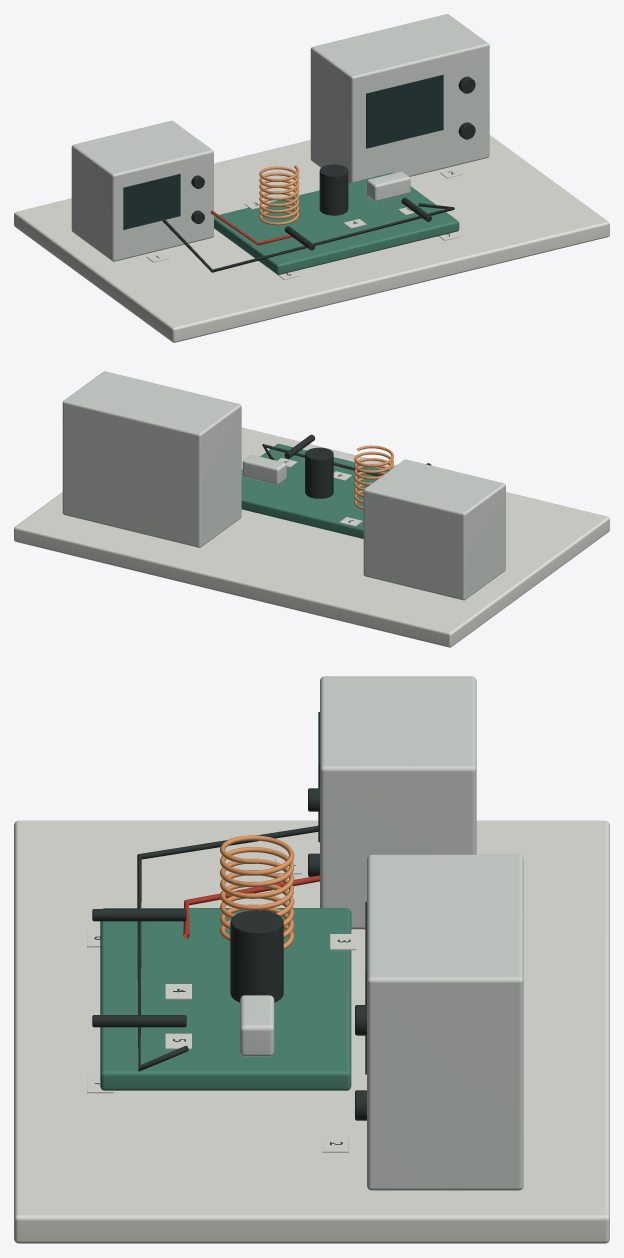
Rendered from passive-rlc.glb.
The picture shows the model from 3 angles, top to bottom: view 1: azimuth 30°, elevation 25°; view 2: azimuth 150°, elevation 25°; view 3: azimuth 270°, elevation 25°; orthographic projection. The views are drawn at different scales.
Visible parts, largest first — view 1: assumed 600 by 380 mm apparatus base, analyzer, source, passive circuit carrier, analyzer blank display, source blank display, illustrative coil, capacitor placeholder, return lead conceptual not wiring, resistive load placeholder; view 2: assumed 600 by 380 mm apparatus base, analyzer, source, passive circuit carrier, capacitor placeholder, illustrative coil, resistive load placeholder; view 3: assumed 600 by 380 mm apparatus base, analyzer, passive circuit carrier, source, capacitor placeholder, illustrative coil, resistive load placeholder, return lead conceptual not wiring, source-probe, load-probe, source lead conceptual not wiring.
Boxes of the visible parts, bbox=[...] form: assumed 600 by 380 mm apparatus base: bbox=[14, 135, 609, 342]; analyzer: bbox=[310, 14, 489, 183]; source: bbox=[71, 120, 213, 261]; passive circuit carrier: bbox=[214, 173, 459, 274]; analyzer blank display: bbox=[366, 74, 443, 148]; source blank display: bbox=[123, 174, 180, 229]; illustrative coil: bbox=[259, 165, 299, 225]; capacitor placeholder: bbox=[319, 164, 348, 215]; return lead conceptual not wiring: bbox=[162, 203, 454, 272]; resistive load placeholder: bbox=[366, 171, 410, 201]; assumed 600 by 380 mm apparatus base: bbox=[14, 427, 609, 647]; analyzer: bbox=[62, 371, 241, 547]; source: bbox=[363, 459, 505, 600]; passive circuit carrier: bbox=[241, 443, 388, 538]; capacitor placeholder: bbox=[305, 447, 333, 498]; illustrative coil: bbox=[354, 445, 393, 509]; resistive load placeholder: bbox=[242, 455, 286, 484]; assumed 600 by 380 mm apparatus base: bbox=[14, 820, 609, 1243]; analyzer: bbox=[367, 854, 523, 1190]; passive circuit carrier: bbox=[100, 908, 351, 1090]; source: bbox=[320, 676, 476, 929]; capacitor placeholder: bbox=[230, 910, 283, 1002]; illustrative coil: bbox=[220, 835, 294, 949]; resistive load placeholder: bbox=[240, 995, 274, 1056]; return lead conceptual not wiring: bbox=[137, 825, 318, 1071]; source-probe: bbox=[92, 909, 186, 921]; load-probe: bbox=[92, 1015, 186, 1027]; source lead conceptual not wiring: bbox=[183, 875, 319, 938].
Size of the model in its own units: 0.6 by 0.171 by 0.38.
